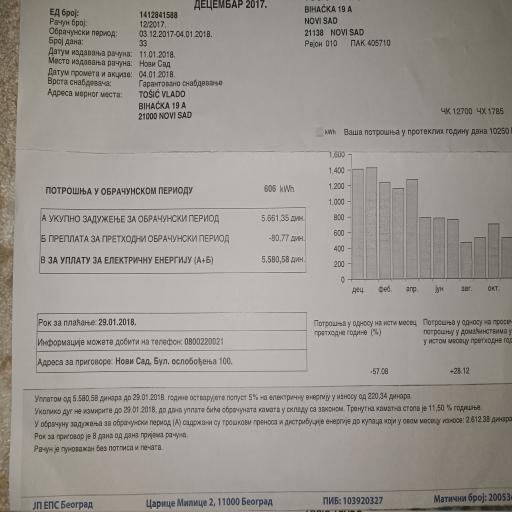racun_za_struju: (26, 170, 309, 332)
